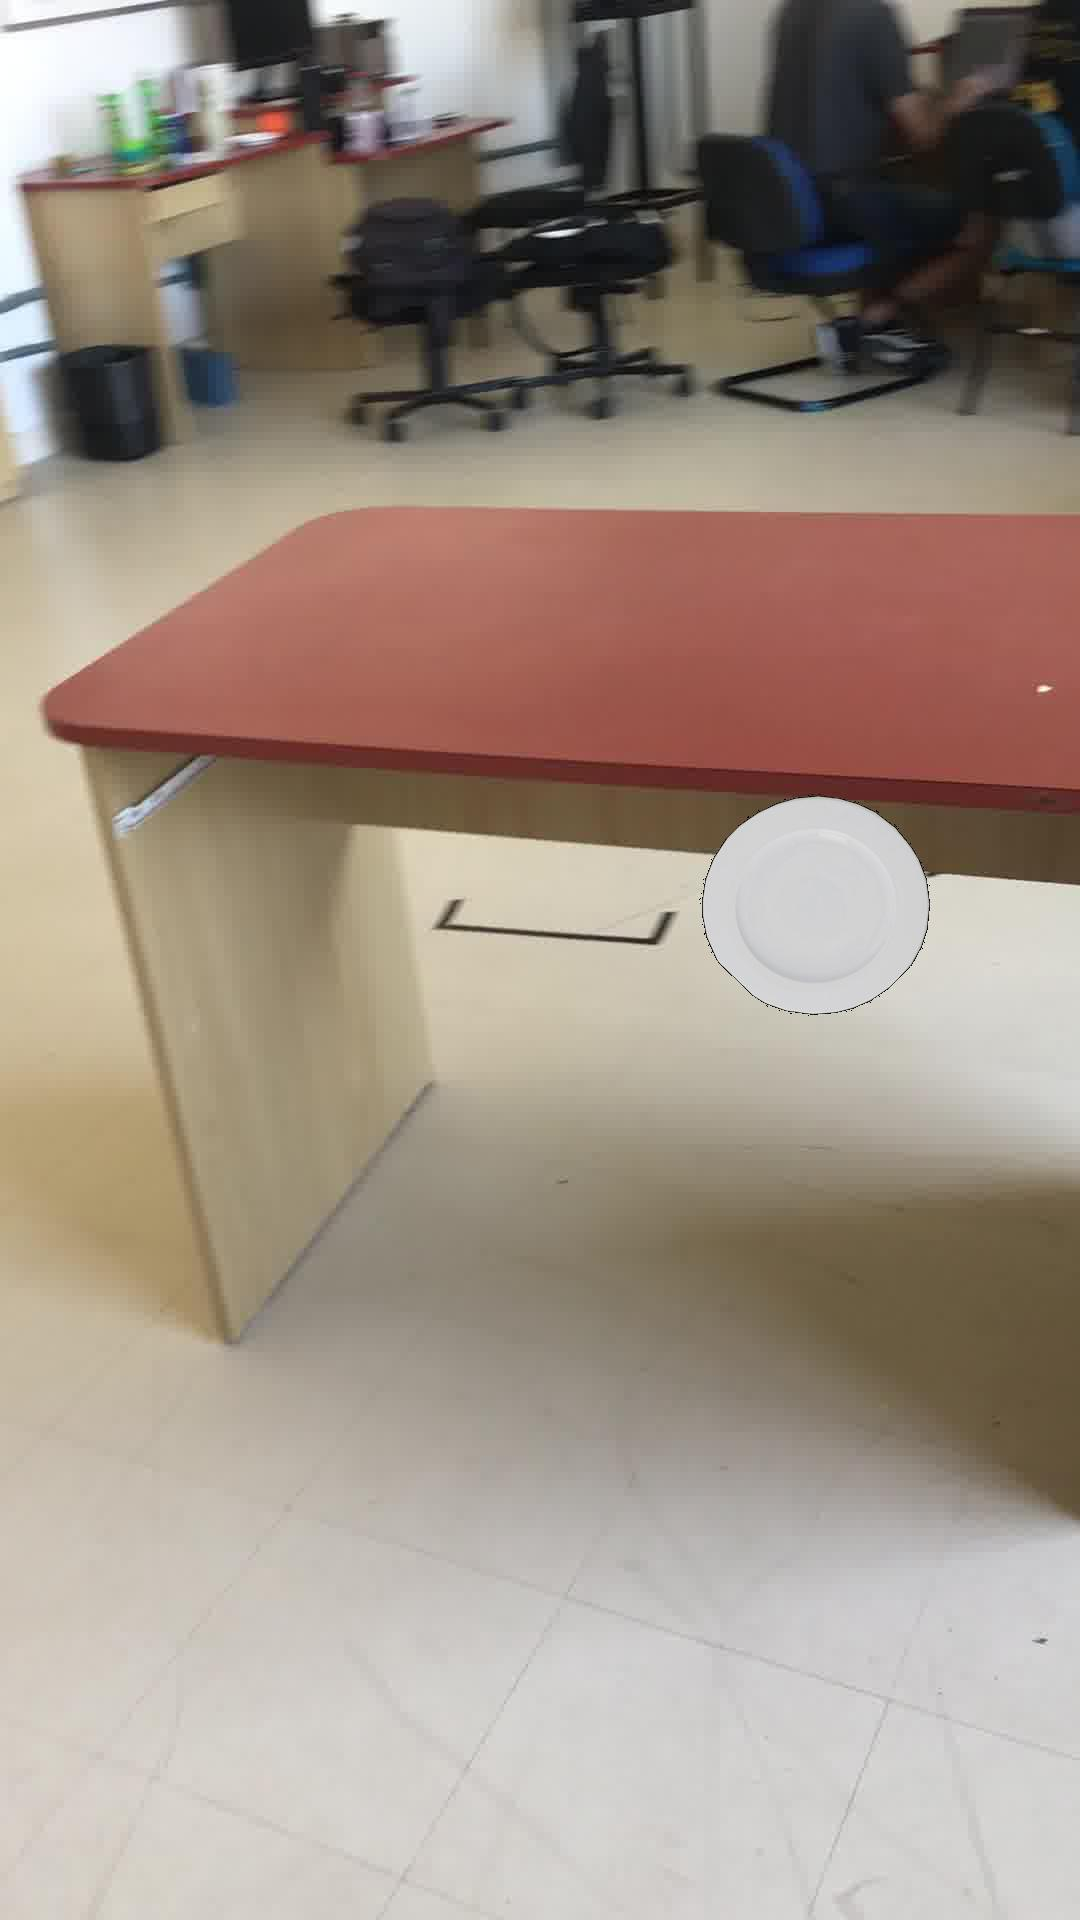plate: (700, 794, 928, 1014)
